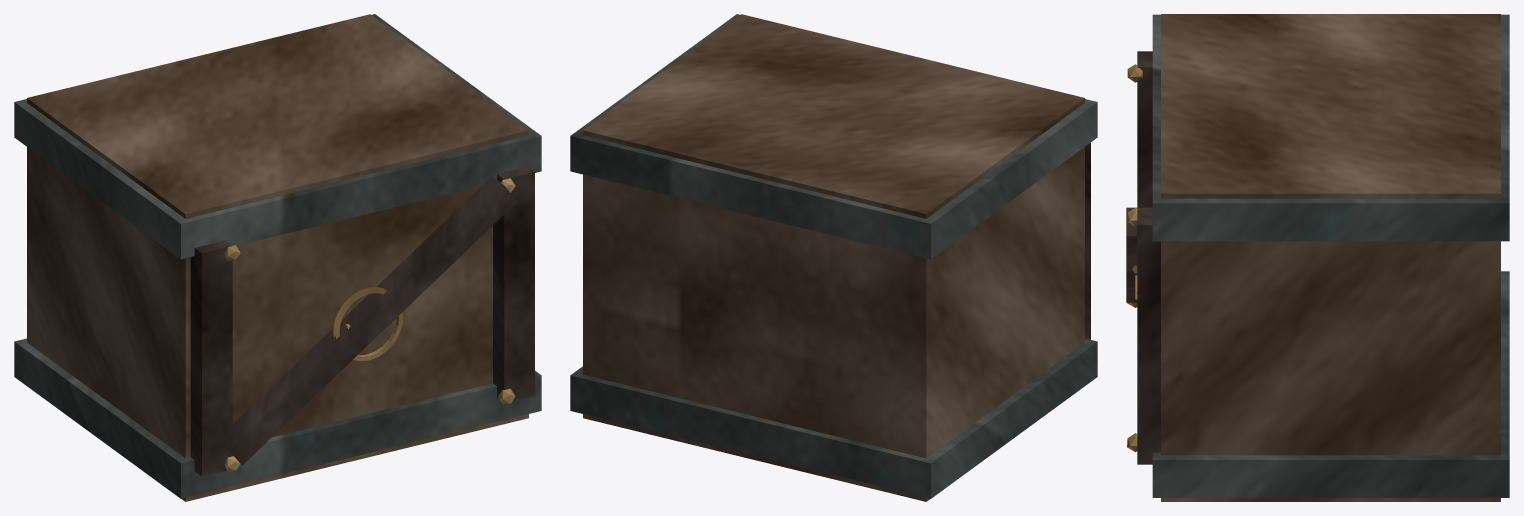
File: 0730_supply_crate_05.glb
The picture shows the model from 3 angles, left to right: view 1: azimuth 30°, elevation 25°; view 2: azimuth 150°, elevation 25°; view 3: azimuth 270°, elevation 25°; orthographic projection. The views are drawn at different scales.
Visible parts, largest first — view 1: wood, iron, wood_dark, brass; view 2: wood, iron, wood_dark; view 3: wood, iron, wood_dark, brass.
Boxes of the visible parts, x1,y1,x2,y2 form: wood: (27, 14, 528, 501); iron: (14, 14, 541, 498); wood_dark: (190, 167, 534, 476); brass: (224, 178, 515, 471); wood: (583, 14, 1084, 501); iron: (570, 14, 1097, 498); wood_dark: (1085, 142, 1090, 339); wood: (1161, 14, 1500, 501); iron: (1152, 14, 1509, 497); wood_dark: (1126, 51, 1160, 464); brass: (1127, 64, 1142, 451).
Bounding box in the file's own units: 1.17 × 0.8927 × 1.01.
Materials: 4 (4 with a texture image).
